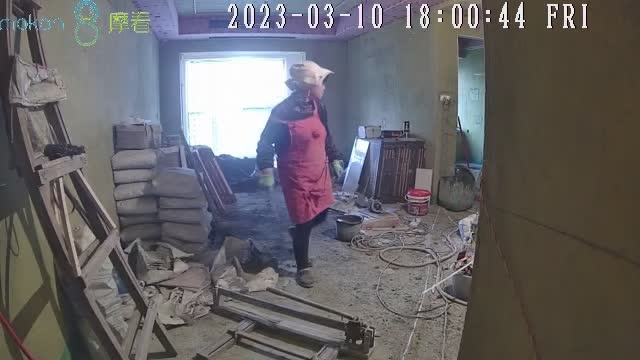people: (256, 61, 342, 288)
window: (185, 58, 294, 157)
